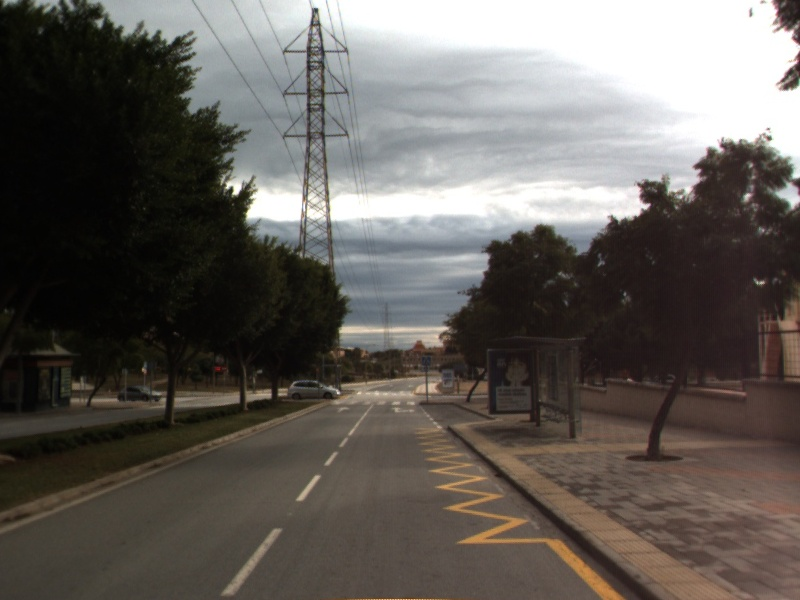STRAIGHT: (334, 404, 353, 415)
STRAIGHT_RIGHT: (389, 405, 417, 415)
